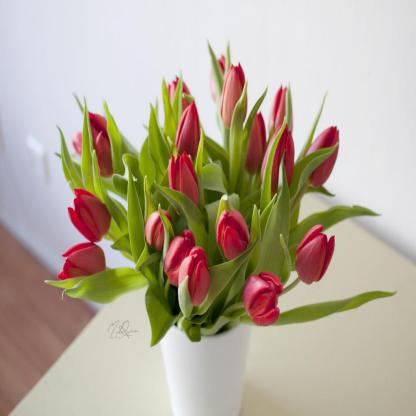vase: (160, 323, 252, 415)
